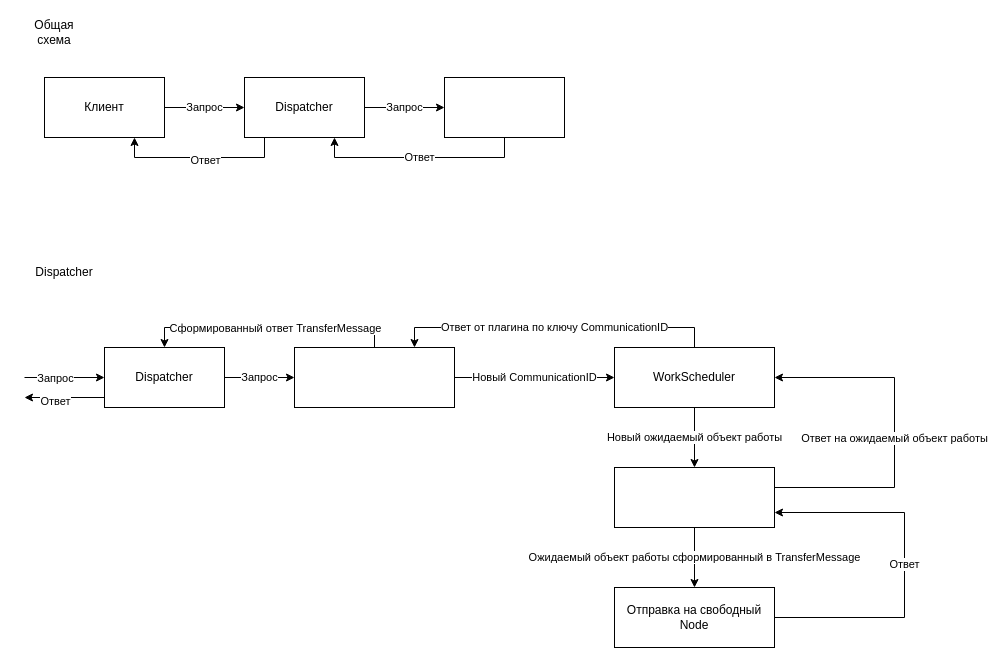
This 1005x665 diagram has some shape labels left out. Here are the shapes that lost their labels. From the top down, the centre of each, then its label:
At pixel 504 107: "Node".
At pixel 374 377: "CommunicationTrackerPool".
At pixel 694 497: "DispatcherPool".
